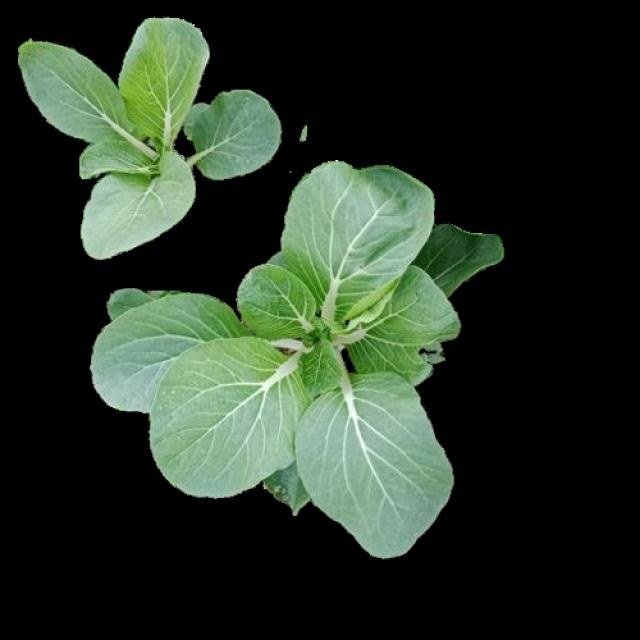healthy: (15, 14, 279, 252)
mature: (87, 162, 503, 556)
not-mature: (18, 17, 282, 255)
unhealthy: (346, 262, 464, 404)
